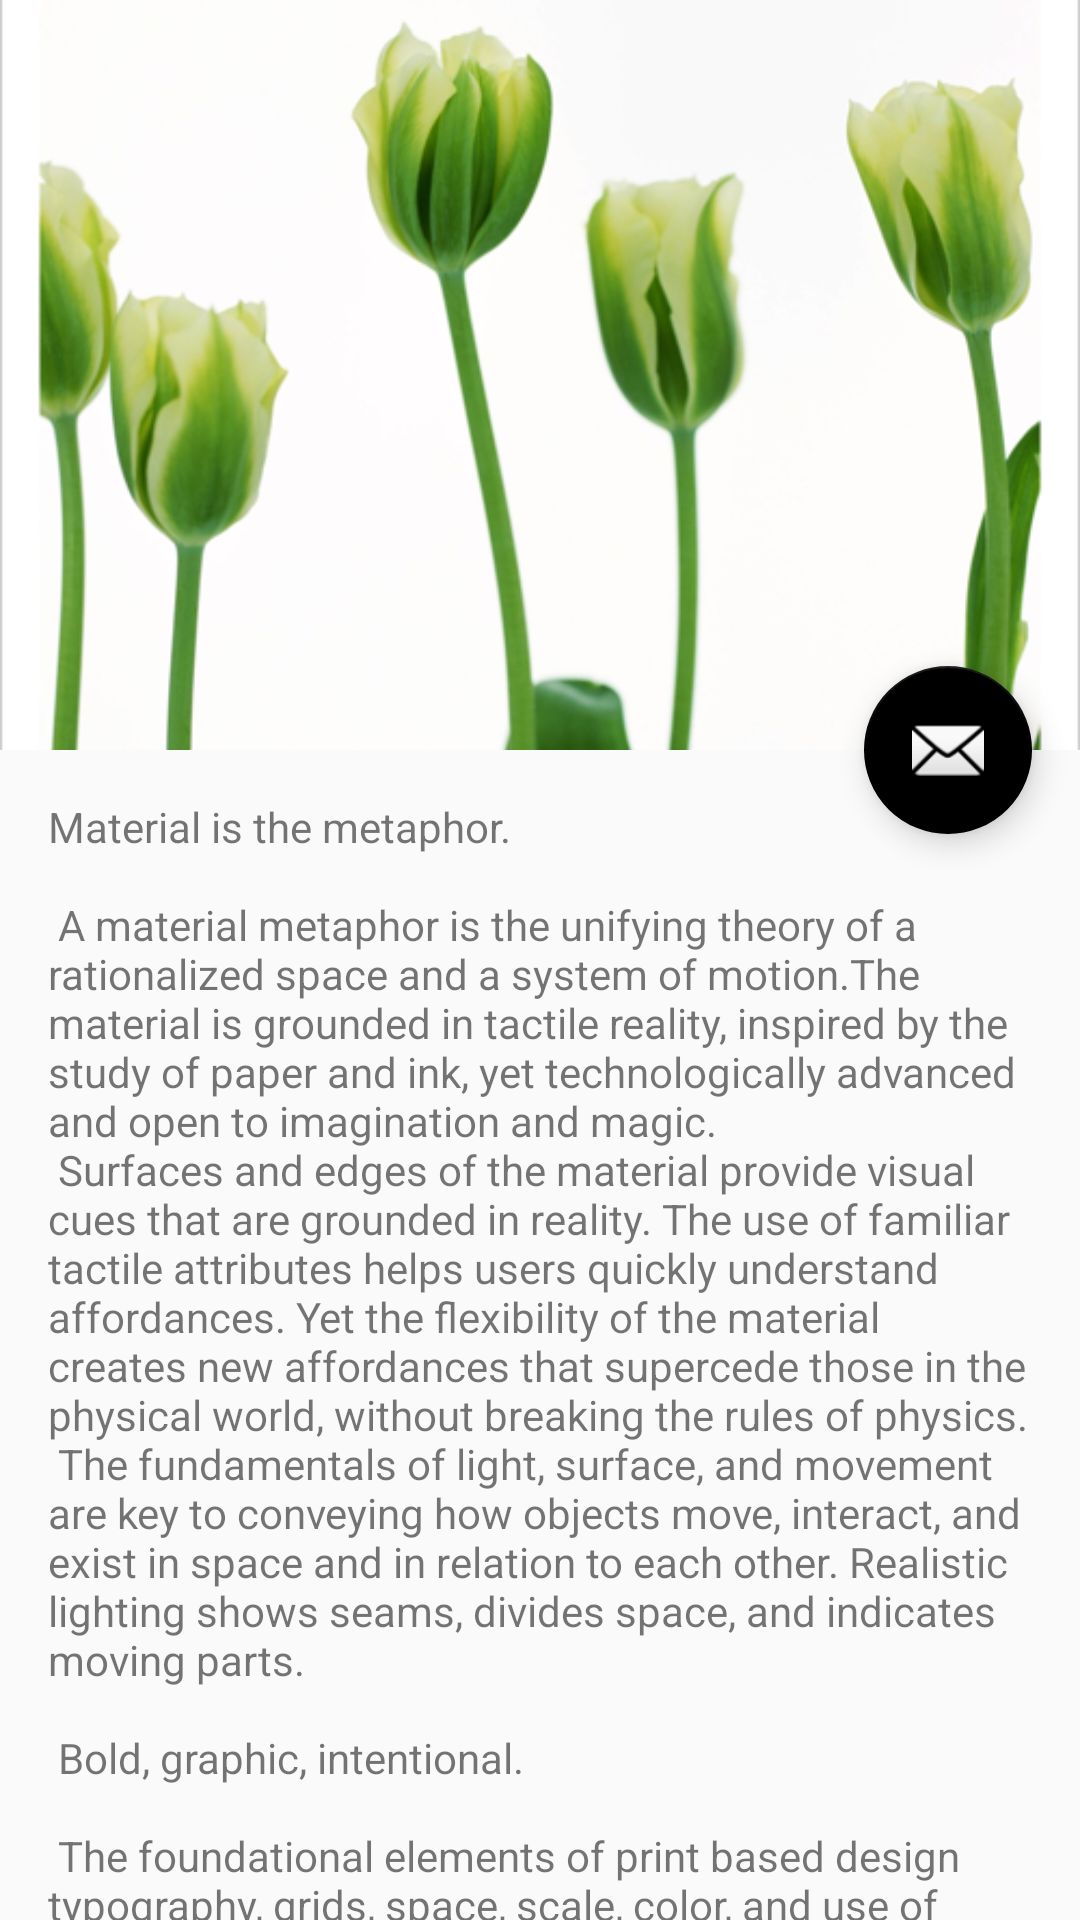

Screen size 1080w x 1920h. Icon name, then its center in pixels as point (x, y):
email: point (948, 750)
